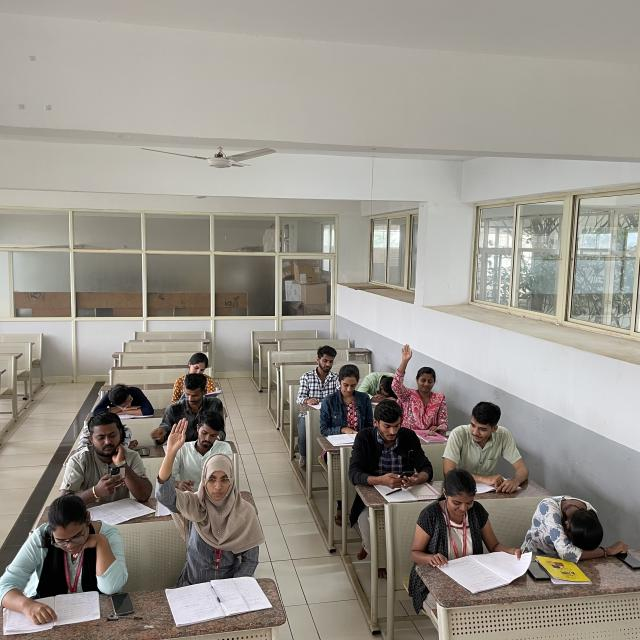Hand Rising: (154, 412, 252, 582), (394, 344, 452, 431)
Reading: (7, 493, 116, 620), (416, 474, 524, 586), (318, 363, 375, 437), (165, 351, 224, 404)
Sleeping: (523, 488, 608, 558), (92, 382, 155, 422), (359, 366, 404, 404)
Using Phone: (64, 412, 151, 510), (351, 396, 431, 488)
